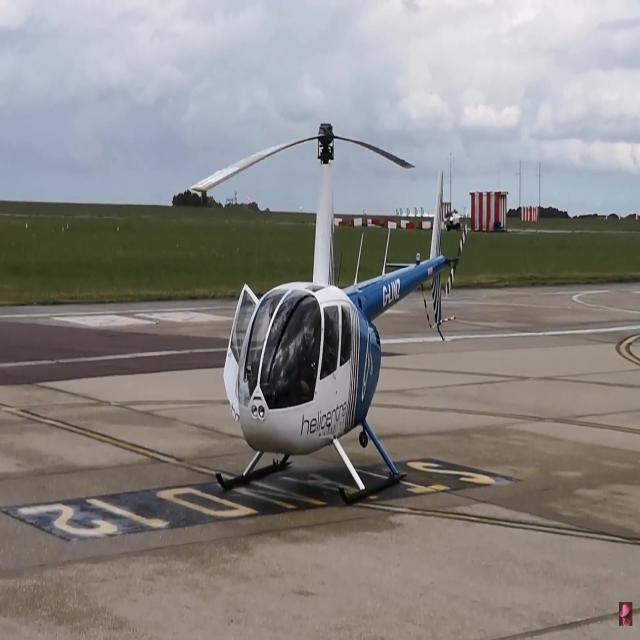CIV_HELO: (213, 120, 452, 507)
